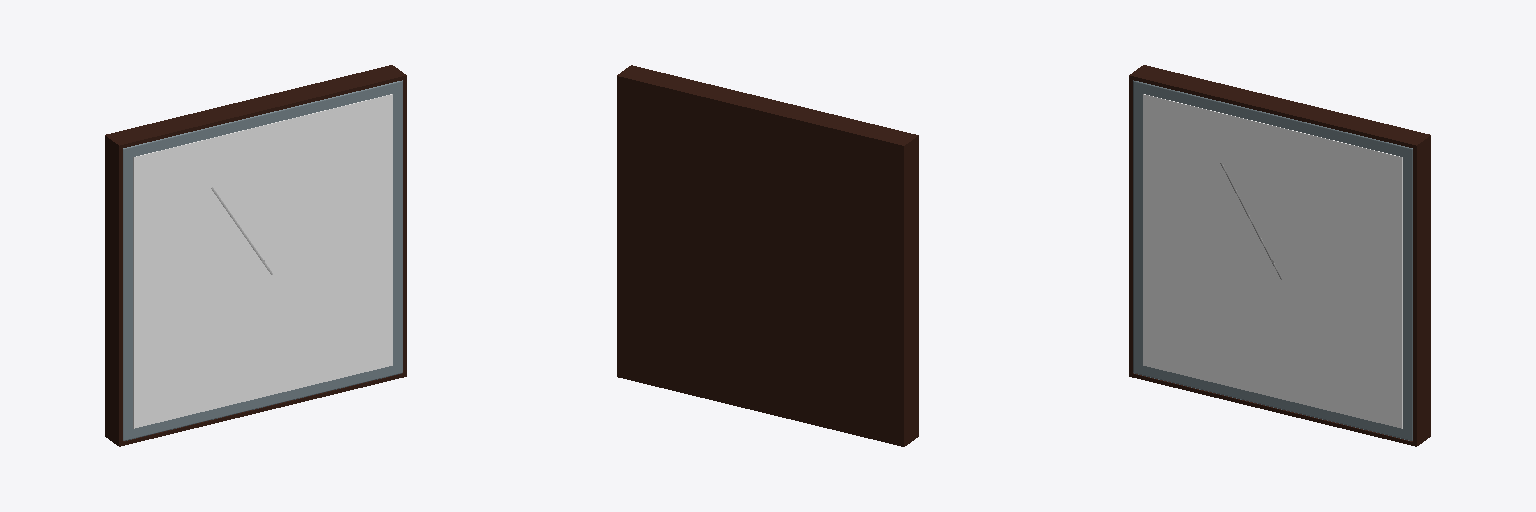
File: ceas.obj
3 renders of one model, left to right at view 1: azimuth 30°, elevation 25°; view 2: azimuth 150°, elevation 25°; view 3: azimuth 330°, elevation 25°, orthographic.
Parts seen in each view (by area): view 1: glass, Cube_5, Cube.1_2; view 2: Cube_5; view 3: glass, Cube_5, Cube.1_2.
Boxes of the visible parts, <box> form: glass: <box>133,94,392,428</box>; Cube_5: <box>105,65,406,446</box>; Cube.1_2: <box>123,80,402,440</box>; Cube_5: <box>617,65,918,446</box>; glass: <box>1143,94,1402,428</box>; Cube_5: <box>1129,65,1430,446</box>; Cube.1_2: <box>1133,80,1412,440</box>.
Size of the model in its own units: 200 by 200 by 18.17.